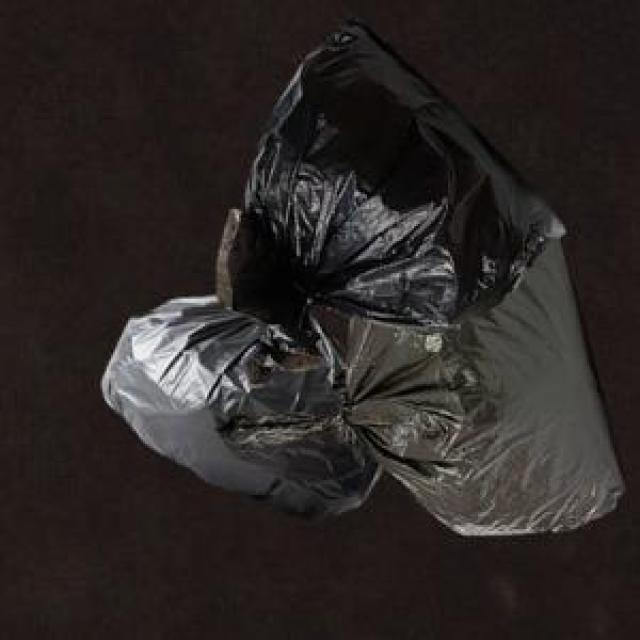garbage_bag: (98, 15, 627, 537)
